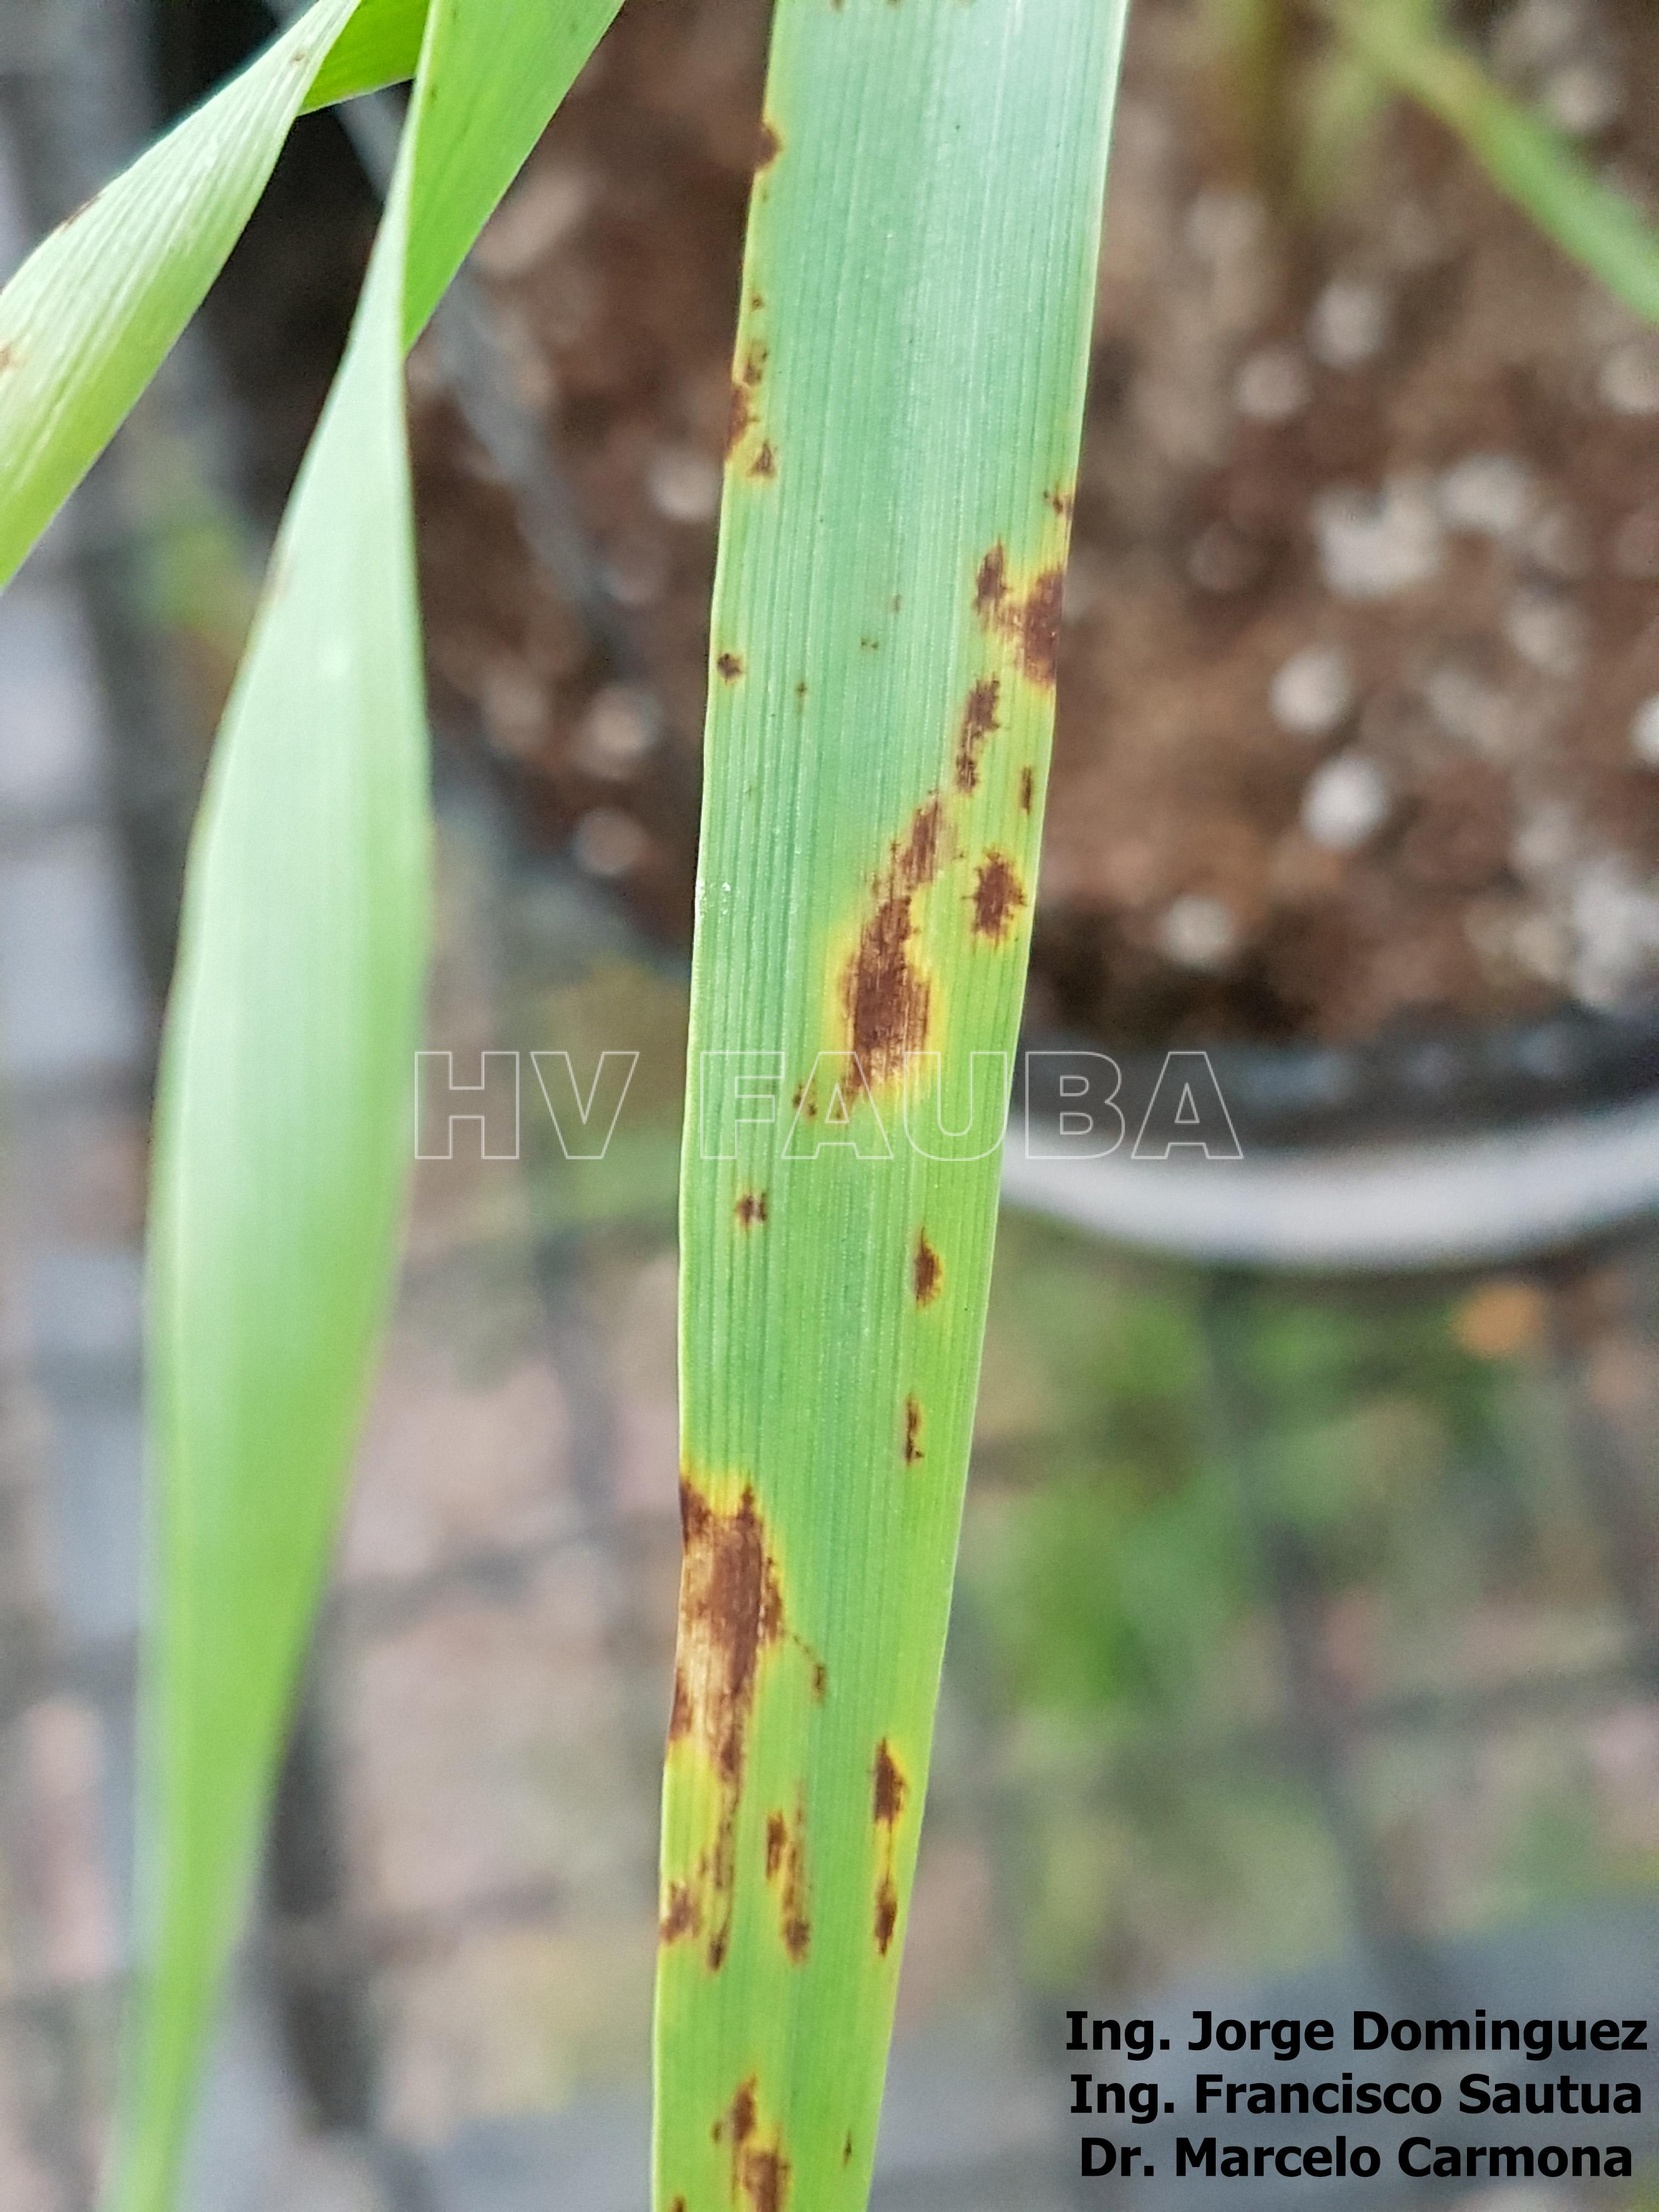Bercak Coklat: (826, 984, 941, 1085), (849, 895, 931, 986), (965, 840, 1025, 954), (1018, 557, 1066, 697), (890, 798, 953, 888), (861, 1730, 911, 1829), (962, 535, 1014, 620), (903, 1238, 951, 1312), (741, 2151, 798, 2212), (863, 1865, 899, 1958), (652, 1878, 695, 1946), (723, 2078, 765, 2148), (896, 1400, 934, 1470), (962, 676, 1004, 738), (755, 1810, 789, 1879), (721, 390, 756, 458), (755, 124, 793, 181), (1037, 481, 1080, 528), (748, 434, 784, 488), (779, 1914, 817, 1965), (945, 751, 990, 792), (701, 1928, 739, 1977), (711, 648, 753, 688), (800, 1655, 835, 1702), (737, 352, 777, 390), (823, 2132, 864, 2168), (1012, 761, 1035, 820), (784, 674, 817, 702), (704, 2109, 727, 2149), (753, 1184, 772, 1228), (734, 1191, 753, 1228), (786, 1083, 802, 1111)
